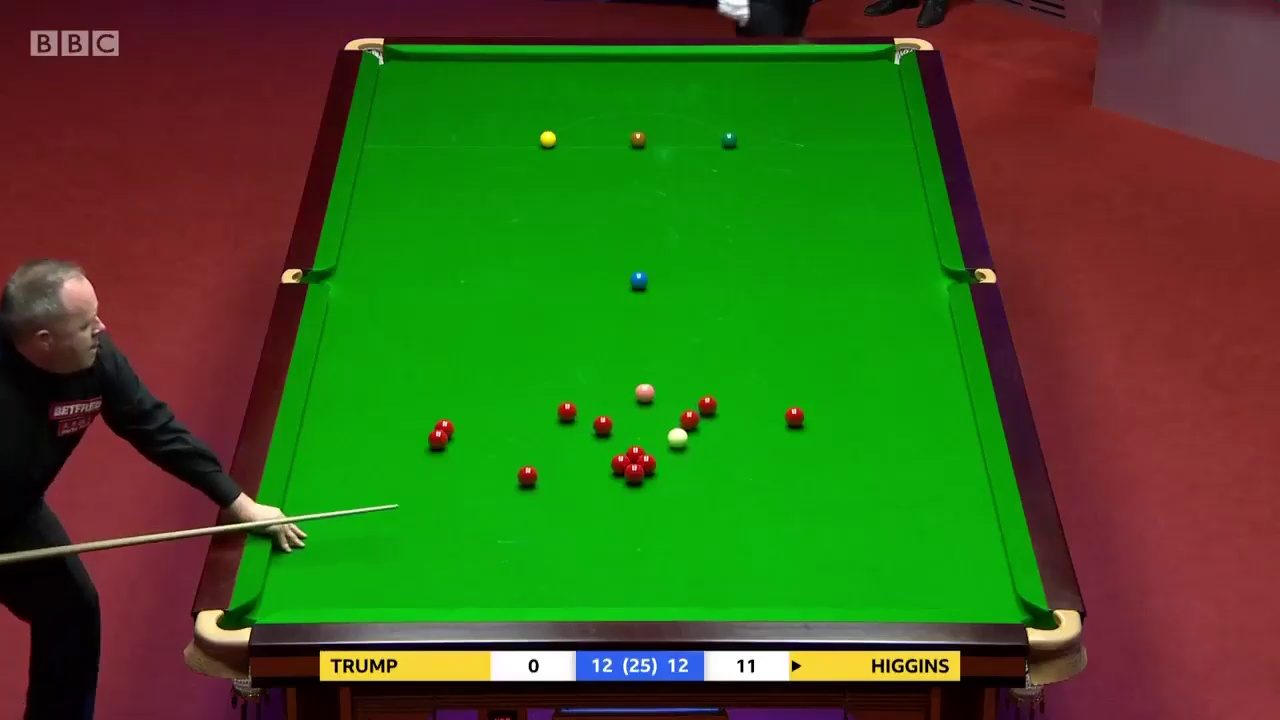ball: (631, 383, 660, 404), (664, 427, 687, 451), (519, 465, 539, 491), (557, 399, 579, 422), (425, 431, 446, 453), (623, 464, 644, 485), (628, 130, 650, 150), (784, 406, 804, 428), (537, 129, 558, 149), (630, 272, 649, 293), (699, 394, 715, 415), (720, 130, 738, 148), (592, 417, 611, 434)
